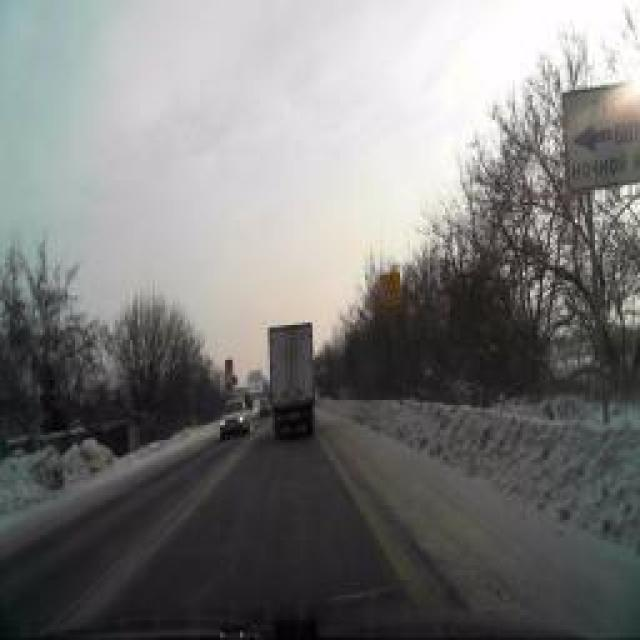sign: (381, 274, 401, 308)
